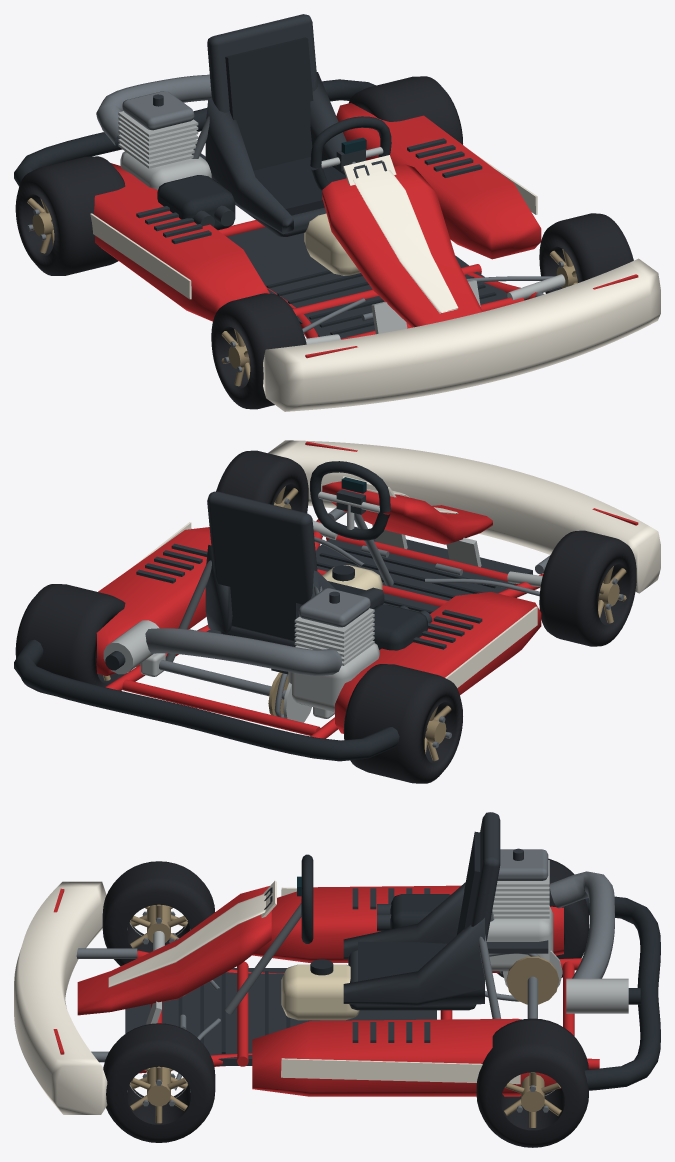
File: apex.glb
3 views of the same model, one above another, from view 1: azimuth 30°, elevation 25°; view 2: azimuth 150°, elevation 25°; view 3: azimuth 270°, elevation 25° (orthographic).
Parts seen in each view (by area): view 1: Livery ivory (×3), paint, Slick vulcanised rubber (×4), Satin composite, Seat fabric, Moulded bumper polymer (×2), Brushed alloy, Steel fasteners, Fuel reservoir, Magnesium wheel centres (×2); view 2: Slick vulcanised rubber (×4), paint, Satin composite (×2), Livery ivory (×2), Moulded bumper polymer (×2), Steel fasteners, Brushed alloy (×2), Magnesium wheel centres (×2), Fuel reservoir; view 3: paint, Slick vulcanised rubber (×4), Satin composite, Livery ivory (×2), Moulded bumper polymer (×2), Steel fasteners (×2), Brushed alloy, Magnesium wheel centres (×4), Seat fabric, Fuel reservoir.
Part boxes in pixels (left/top/right/bottom): Livery ivory (×3): left=90, top=154, right=660, bottom=411; paint: left=93, top=103, right=541, bottom=339; Slick vulcanised rubber (×4): left=15, top=76, right=633, bottom=409; Satin composite: left=136, top=14, right=507, bottom=338; Seat fabric: left=225, top=37, right=346, bottom=215; Moulded bumper polymer (×2): left=14, top=79, right=496, bottom=334; Brushed alloy: left=118, top=111, right=565, bottom=344; Steel fasteners: left=96, top=74, right=554, bottom=332; Fuel reservoir: left=304, top=213, right=360, bottom=275; Magnesium wheel centres (×2): left=27, top=198, right=250, bottom=386; Slick vulcanised rubber (×4): left=15, top=450, right=636, bottom=783; paint: left=96, top=481, right=543, bottom=738; Satin composite (×2): left=136, top=489, right=532, bottom=674; Livery ivory (×2): left=131, top=440, right=660, bottom=687; Moulded bumper polymer (×2): left=14, top=461, right=496, bottom=761; Steel fasteners: left=139, top=513, right=539, bottom=717; Brushed alloy (×2): left=103, top=491, right=542, bottom=722; Magnesium wheel centres (×2): left=424, top=566, right=626, bottom=761; Fuel reservoir: left=322, top=565, right=382, bottom=590; paint: left=77, top=885, right=599, bottom=1096; Slick vulcanised rubber (×4): left=102, top=858, right=588, bottom=1147; Satin composite: left=125, top=812, right=548, bottom=1065; Livery ivory (×2): left=14, top=881, right=520, bottom=1114; Moulded bumper polymer (×2): left=178, top=854, right=660, bottom=1090; Steel fasteners (×2): left=76, top=849, right=614, bottom=1090; Brushed alloy: left=146, top=860, right=628, bottom=1024; Magnesium wheel centres (×4): left=130, top=904, right=561, bottom=1127; Seat fabric: left=358, top=831, right=480, bottom=981; Fuel reservoir: left=281, top=964, right=359, bottom=1020.
Bounding box in the file's own units: 2 × 1.01 × 2.7.
